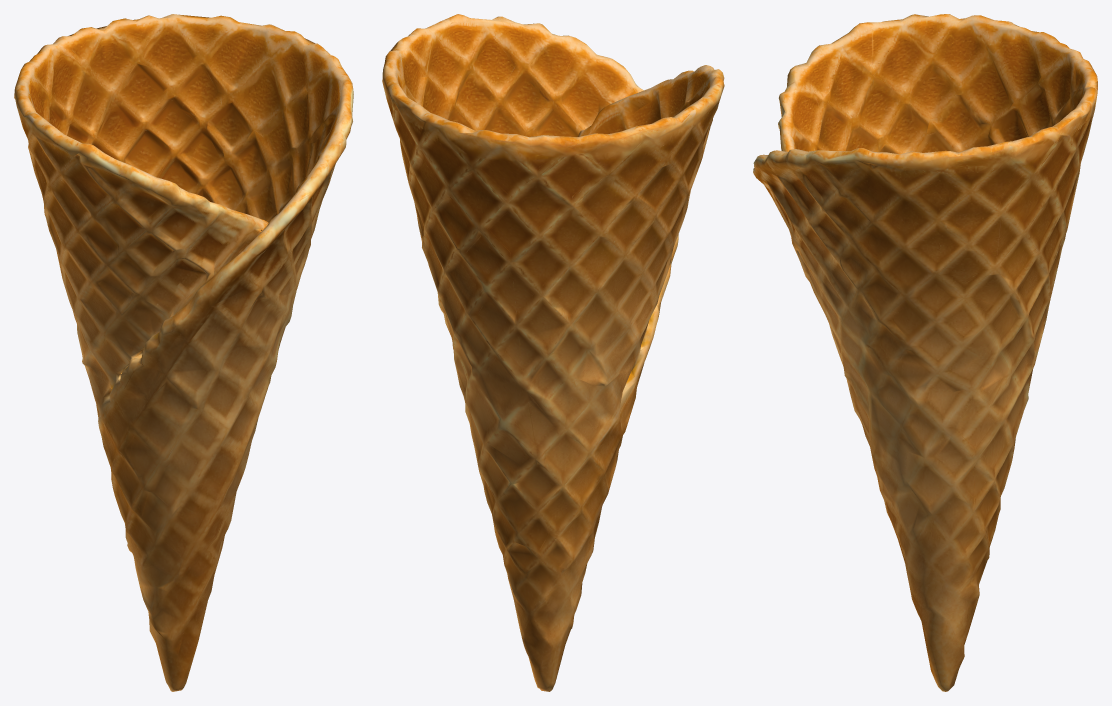
The model's file is Meshy_AI_Waffle_cone_0609084729_texture.fbx.
The picture shows the model from 3 angles, left to right: view 1: azimuth 30°, elevation 25°; view 2: azimuth 150°, elevation 25°; view 3: azimuth 270°, elevation 25°; orthographic projection.
Visible parts, largest first — view 1: Mesh_0; view 2: Mesh_0; view 3: Mesh_0.
Part boxes in pixels (x1,y1,x2,y2): Mesh_0: (14,14,353,691); Mesh_0: (382,14,724,691); Mesh_0: (753,14,1097,691).
Size of the model in its own units: 95.82 by 191 by 98.12.
1 material, 1 textured.
